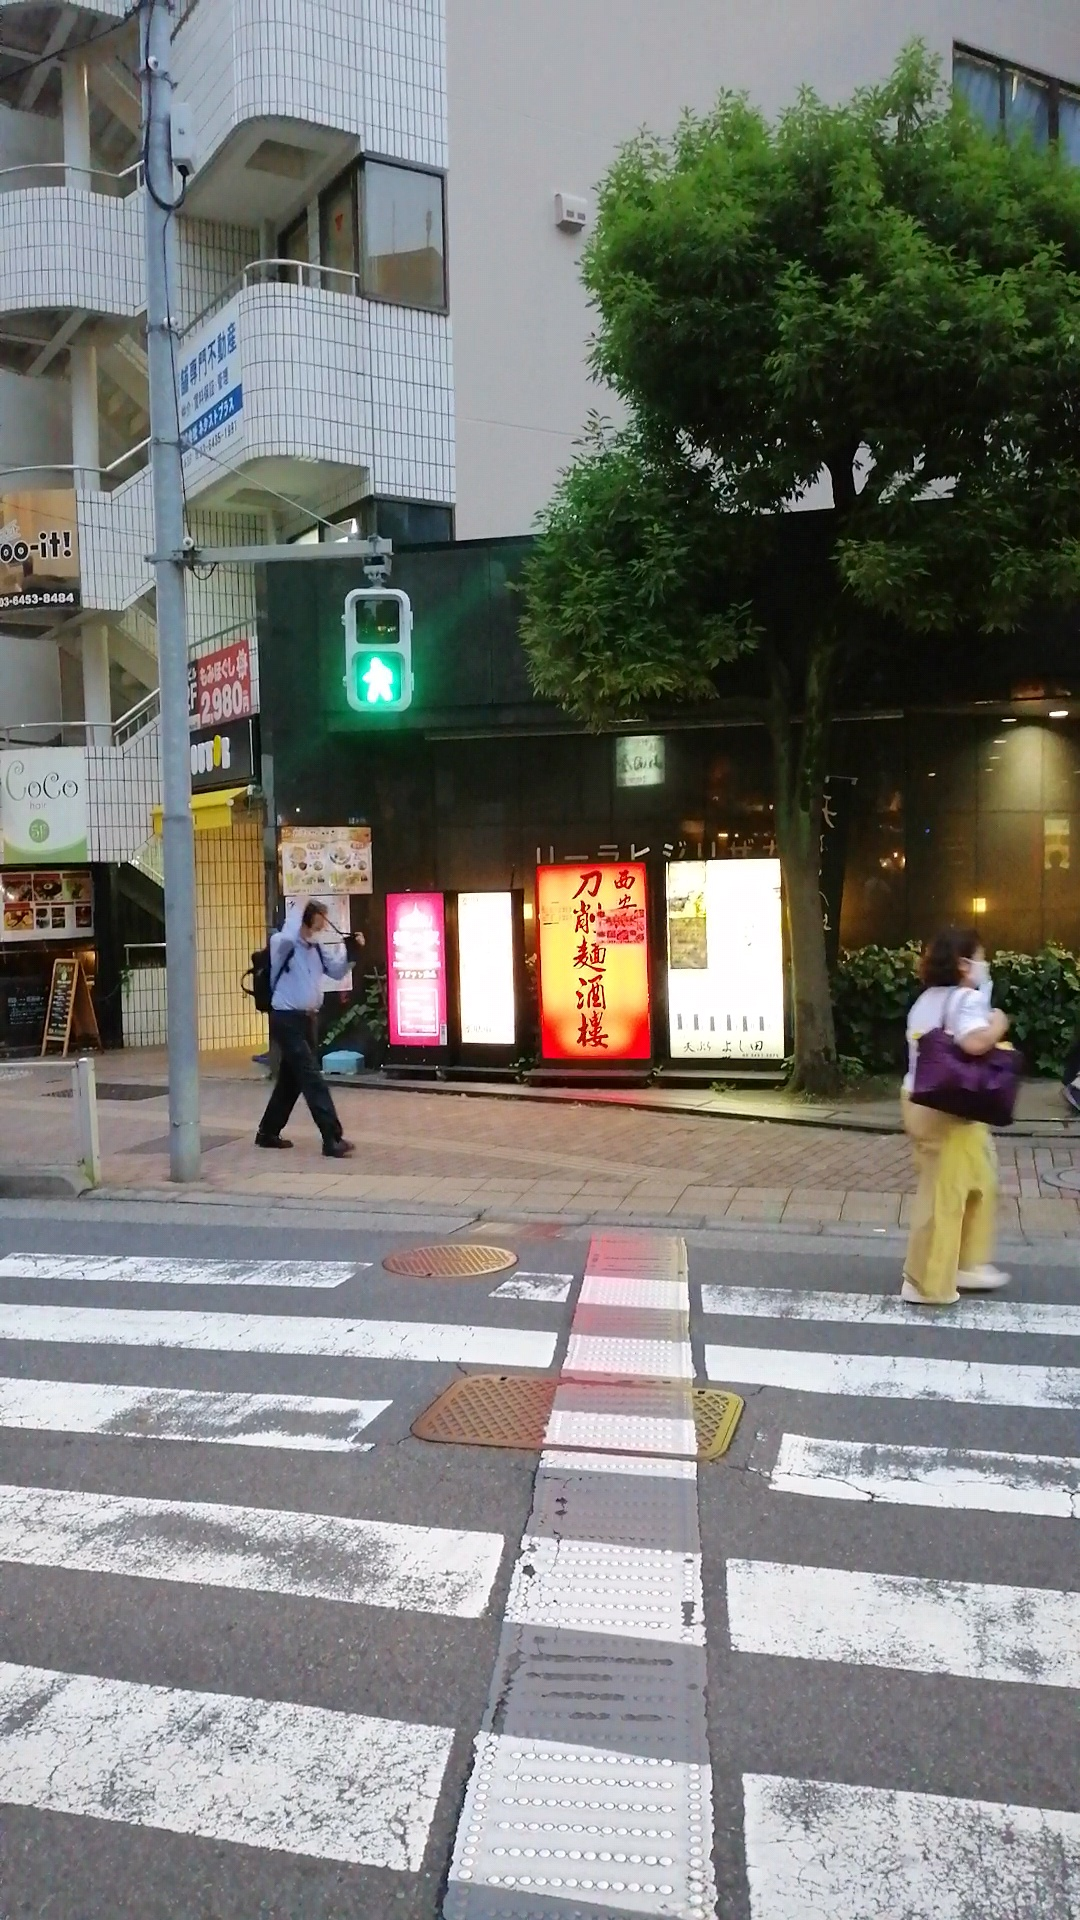green: (342, 587, 413, 713)
